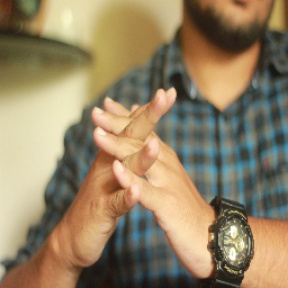W: (67, 75, 194, 230)
